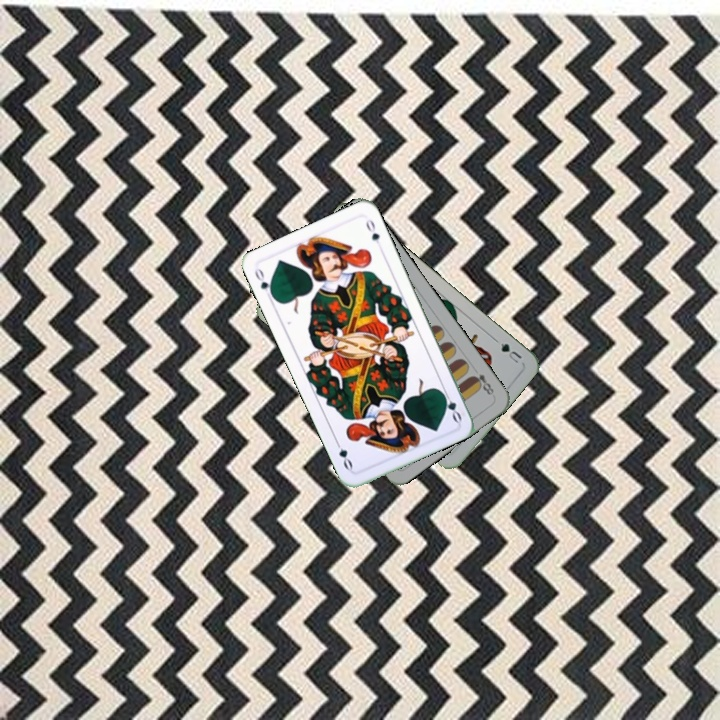E8: (467, 370, 497, 399)
GO: (437, 386, 464, 425), (250, 264, 277, 301)
GU: (491, 335, 525, 366)
